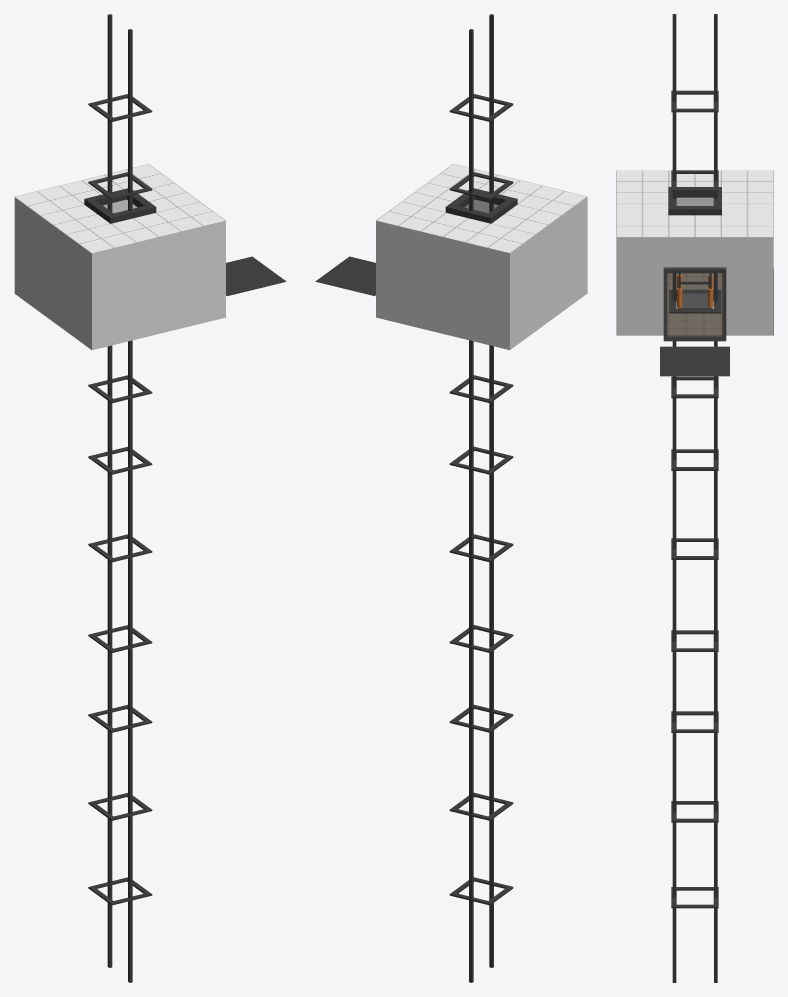
3 renders of one model, left to right at view 1: azimuth 30°, elevation 25°; view 2: azimuth 150°, elevation 25°; view 3: azimuth 270°, elevation 25°, orthographic.
Visible parts, largest first — view 1: walls, ElevatorRails, ceiling, FrameMap; view 2: walls, ElevatorRails, ceiling, FrameMap; view 3: ElevatorRails, walls, ceiling, FrameMap, floor, DoorFrame, TopBottomPlates.
Boxes of the visible parts, bbox=[...] form: walls: bbox=[14, 197, 225, 350]; ElevatorRails: bbox=[84, 14, 156, 982]; ceiling: bbox=[14, 164, 225, 253]; FrameMap: bbox=[226, 256, 286, 296]; walls: bbox=[376, 197, 587, 349]; ElevatorRails: bbox=[445, 14, 517, 982]; ceiling: bbox=[376, 164, 587, 253]; FrameMap: bbox=[315, 256, 375, 296]; ElevatorRails: bbox=[668, 14, 721, 982]; walls: bbox=[616, 197, 773, 335]; ceiling: bbox=[616, 170, 773, 237]; FrameMap: bbox=[660, 346, 729, 376]; floor: bbox=[667, 269, 773, 335]; DoorFrame: bbox=[663, 267, 726, 341]; TopBottomPlates: bbox=[677, 293, 712, 308].
Size of the model in its own units: 7.26 by 30.47 by 4.51.
10 materials, 3 textured.
